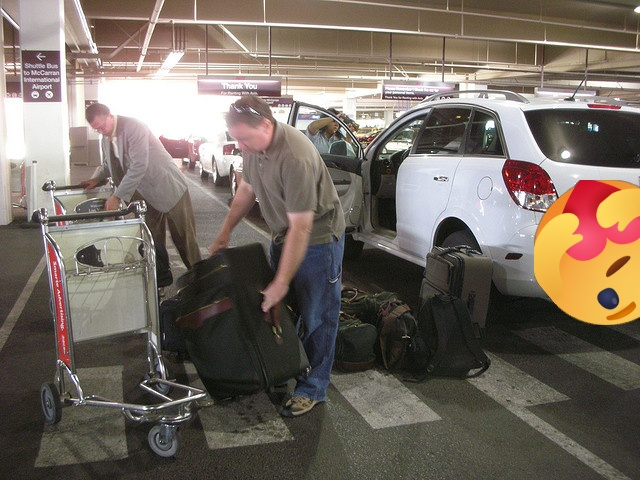care: (534, 180, 640, 325)
